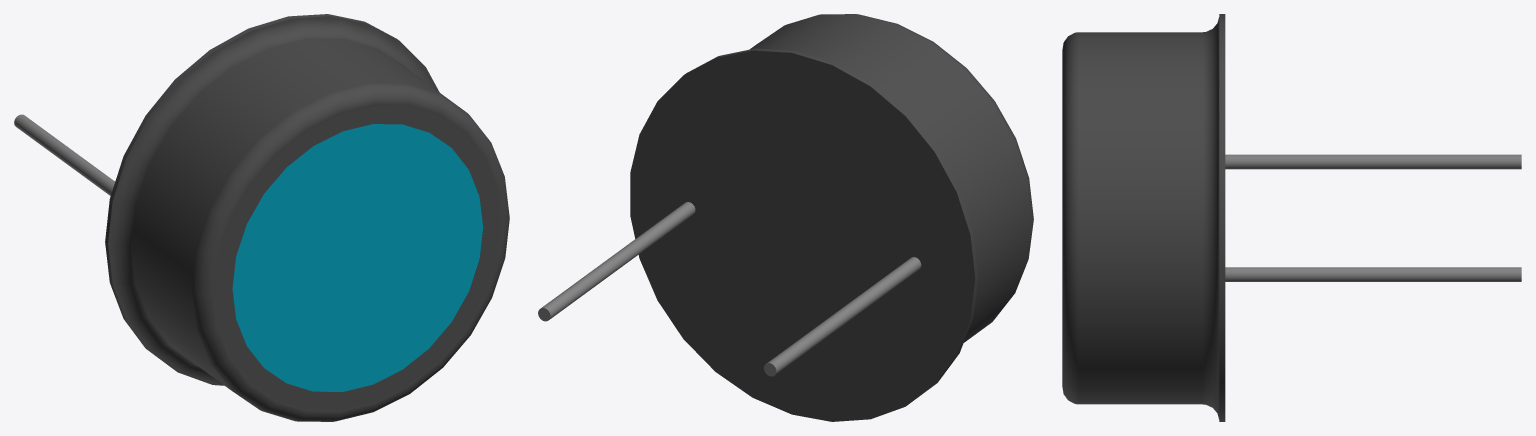
File: R_LDR_D13.8mm_Vertical.glb
The picture shows the model from 3 angles, left to right: view 1: azimuth 30°, elevation 25°; view 2: azimuth 150°, elevation 25°; view 3: azimuth 270°, elevation 25°; orthographic projection. The views are drawn at different scales.
Parts seen in each view (by area): view 1: R_LDR_D13.8mm_P9.0mm_Vertical; view 2: R_LDR_D13.8mm_P9.0mm_Vertical; view 3: R_LDR_D13.8mm_P9.0mm_Vertical.
Boxes of the visible parts, <box> form: R_LDR_D13.8mm_P9.0mm_Vertical: <box>14,14,509,421</box>; R_LDR_D13.8mm_P9.0mm_Vertical: <box>538,14,1033,421</box>; R_LDR_D13.8mm_P9.0mm_Vertical: <box>1062,14,1521,421</box>.
Size of the model in its own units: 0.0138 by 0.0138 by 0.0155.
